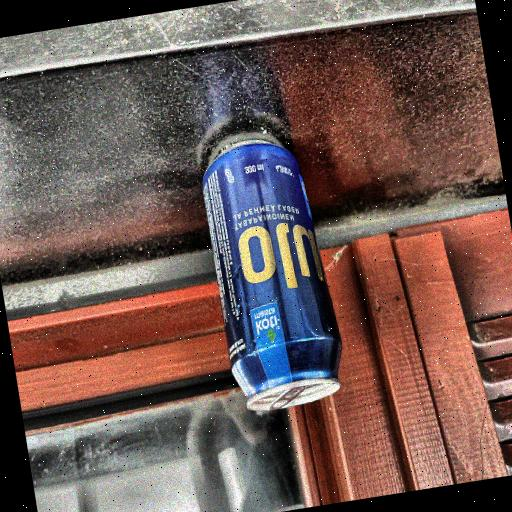koti: (190, 119, 355, 430)
